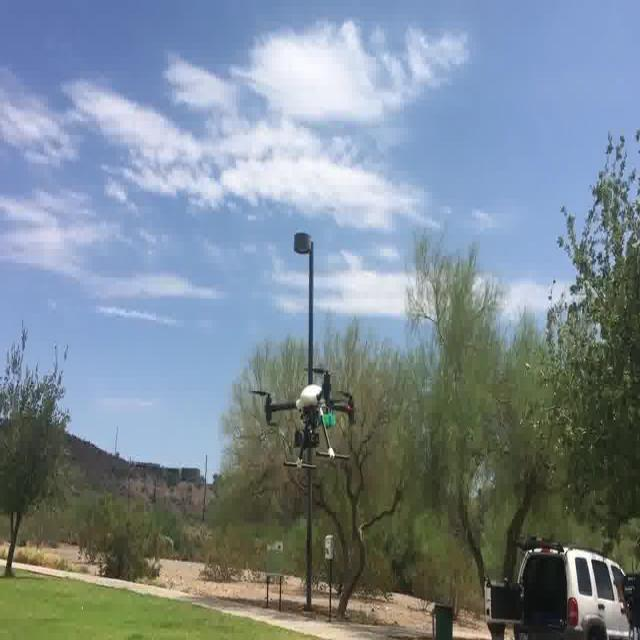drone: (264, 364, 356, 468)
